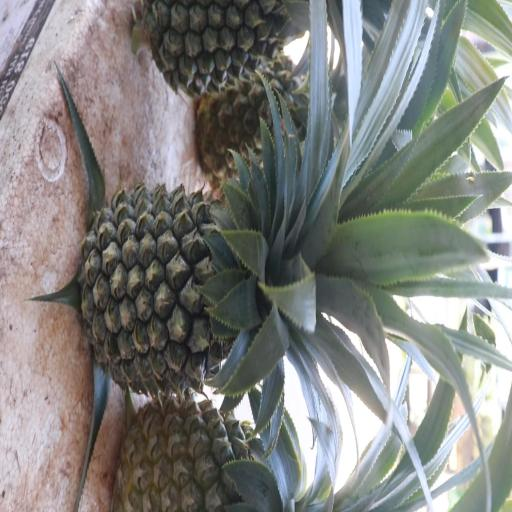------------------------------: (125, 391, 283, 512)
